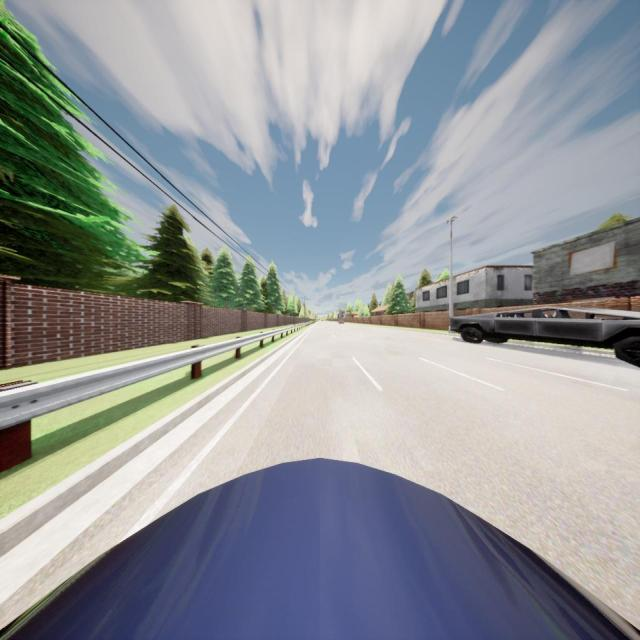Vehicle: (0, 458, 640, 640), (449, 306, 640, 368), (338, 320, 344, 324)
